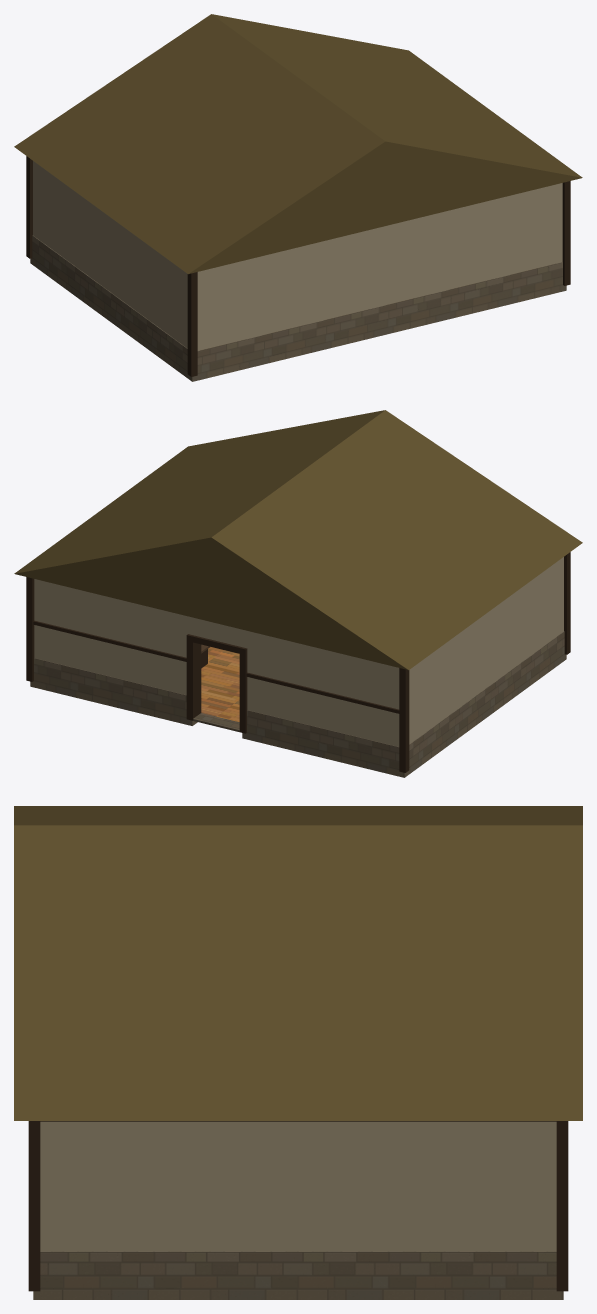
The model's file is posada.glb.
The picture shows the model from 3 angles, top to bottom: view 1: azimuth 30°, elevation 25°; view 2: azimuth 150°, elevation 25°; view 3: azimuth 270°, elevation 25°; orthographic projection. The views are drawn at different scales.
Visible parts, largest first — view 1: posada-1, posada-2; view 2: posada-1, posada-2, posada-0; view 3: posada-1, posada-2.
Part boxes in pixels (left/top/right/bottom): posada-1: left=14, top=14, right=582, bottom=376; posada-2: left=30, top=235, right=566, bottom=381; posada-1: left=14, top=410, right=582, bottom=772; posada-2: left=30, top=631, right=566, bottom=777; posada-0: left=201, top=647, right=239, bottom=721; posada-1: left=14, top=806, right=582, bottom=1291; posada-2: left=33, top=1251, right=563, bottom=1299.
Size of the model in its own units: 12.7 by 6.12 by 9.7.
3 materials, 2 textured.
